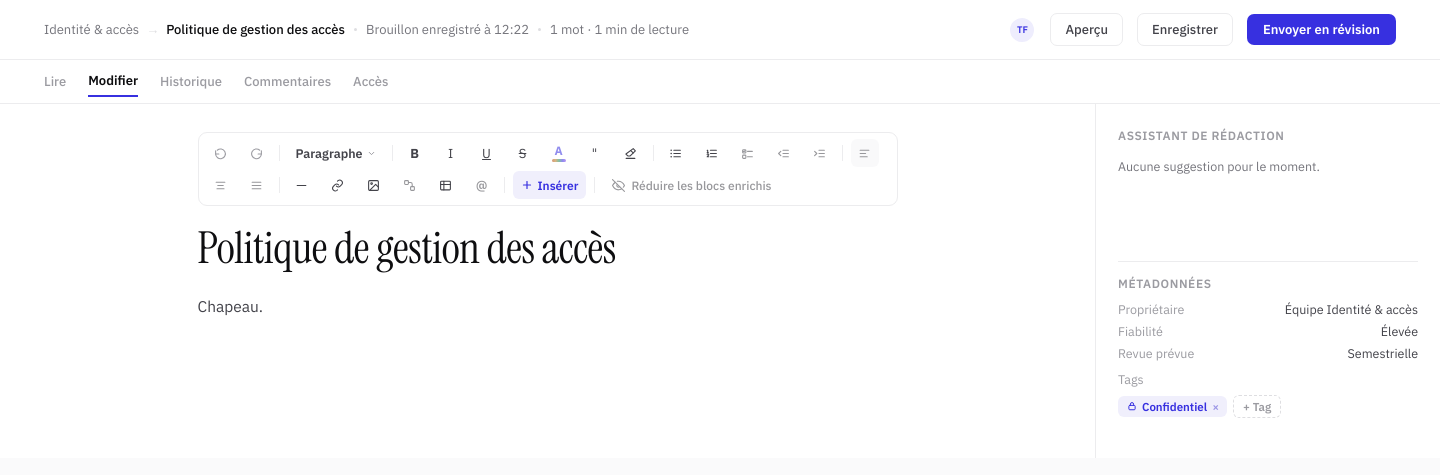
Scenario: DocumentEditPage — assistant et métadonnées › étiquette gouvernée 403 : affiche le detail problem+json
Click the button named "Retirer le tag Confidentiel": x=1216, y=406 x1=1212 y1=399 x2=1219 y2=414
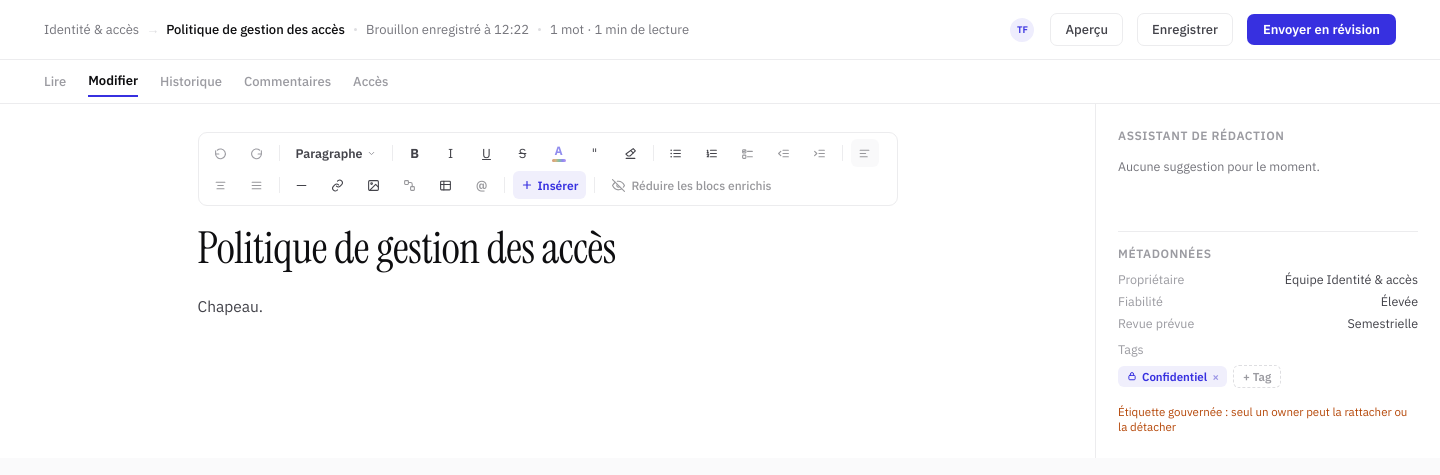
Expected: the message with test id "tag-error" shows "Étiquette gouvernée", x1=1118 y1=404 x2=1407 y2=434
